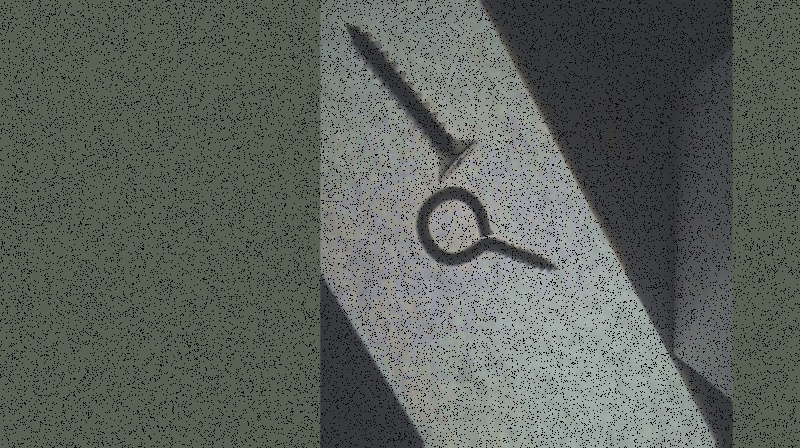O001: (415, 186, 561, 281)
S001: (342, 21, 477, 184)
